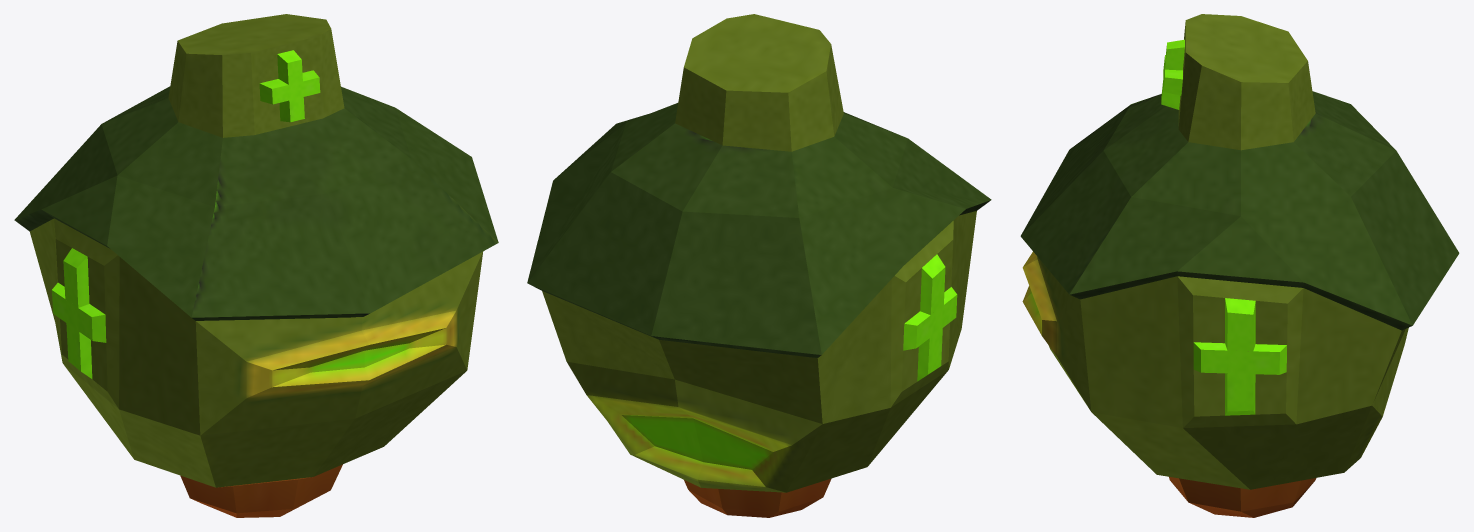
The model's file is MedicalDrone.fbx.
3 renders of one model, left to right at view 1: azimuth 30°, elevation 25°; view 2: azimuth 150°, elevation 25°; view 3: azimuth 270°, elevation 25°, orthographic. The views are drawn at different scales.
Parts seen in each view (by area): view 1: MedicalDrone; view 2: MedicalDrone; view 3: MedicalDrone.
Part boxes in pixels (bbox=[...]): MedicalDrone: bbox=[14, 14, 498, 517]; MedicalDrone: bbox=[527, 14, 991, 517]; MedicalDrone: bbox=[1020, 14, 1459, 517].
Bounding box in the file's own units: 91.92 × 112 × 96.55.
